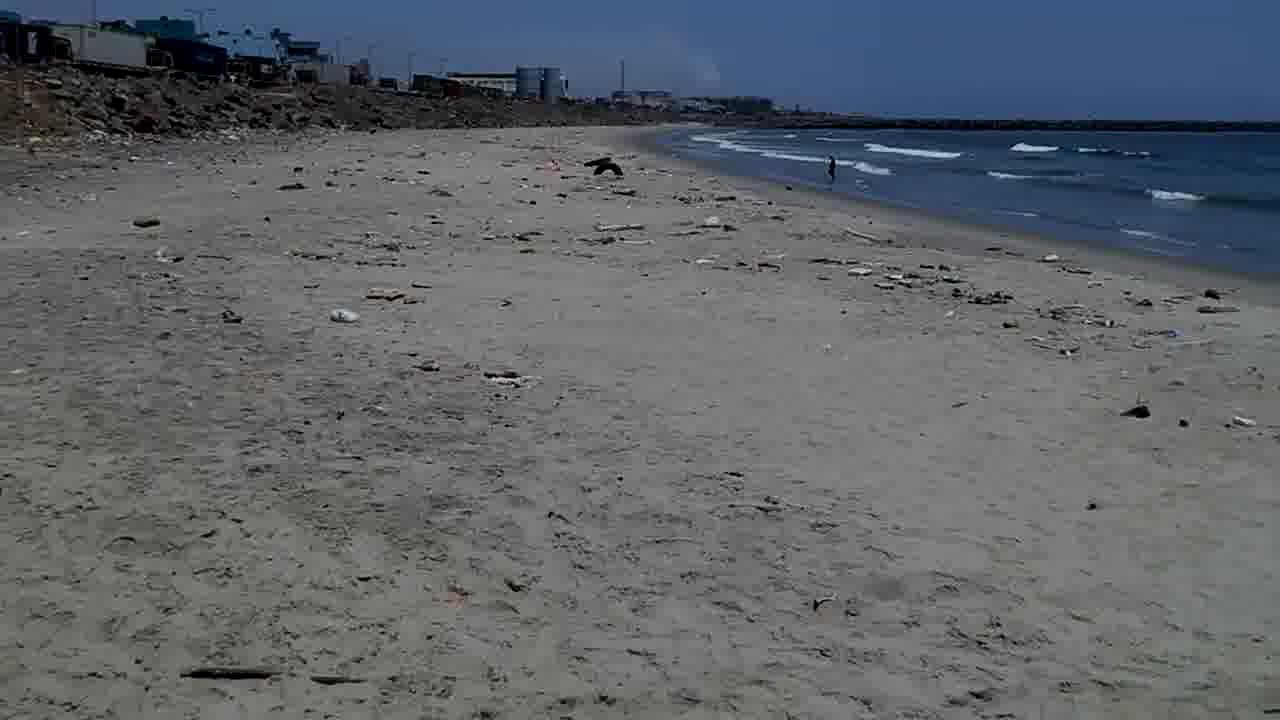large collection of objects: (828, 156, 838, 184)
obj: (180, 666, 274, 680), (478, 370, 542, 385), (328, 308, 359, 325), (593, 162, 623, 176), (133, 218, 159, 229)
sand/background: (0, 0, 1279, 290)
